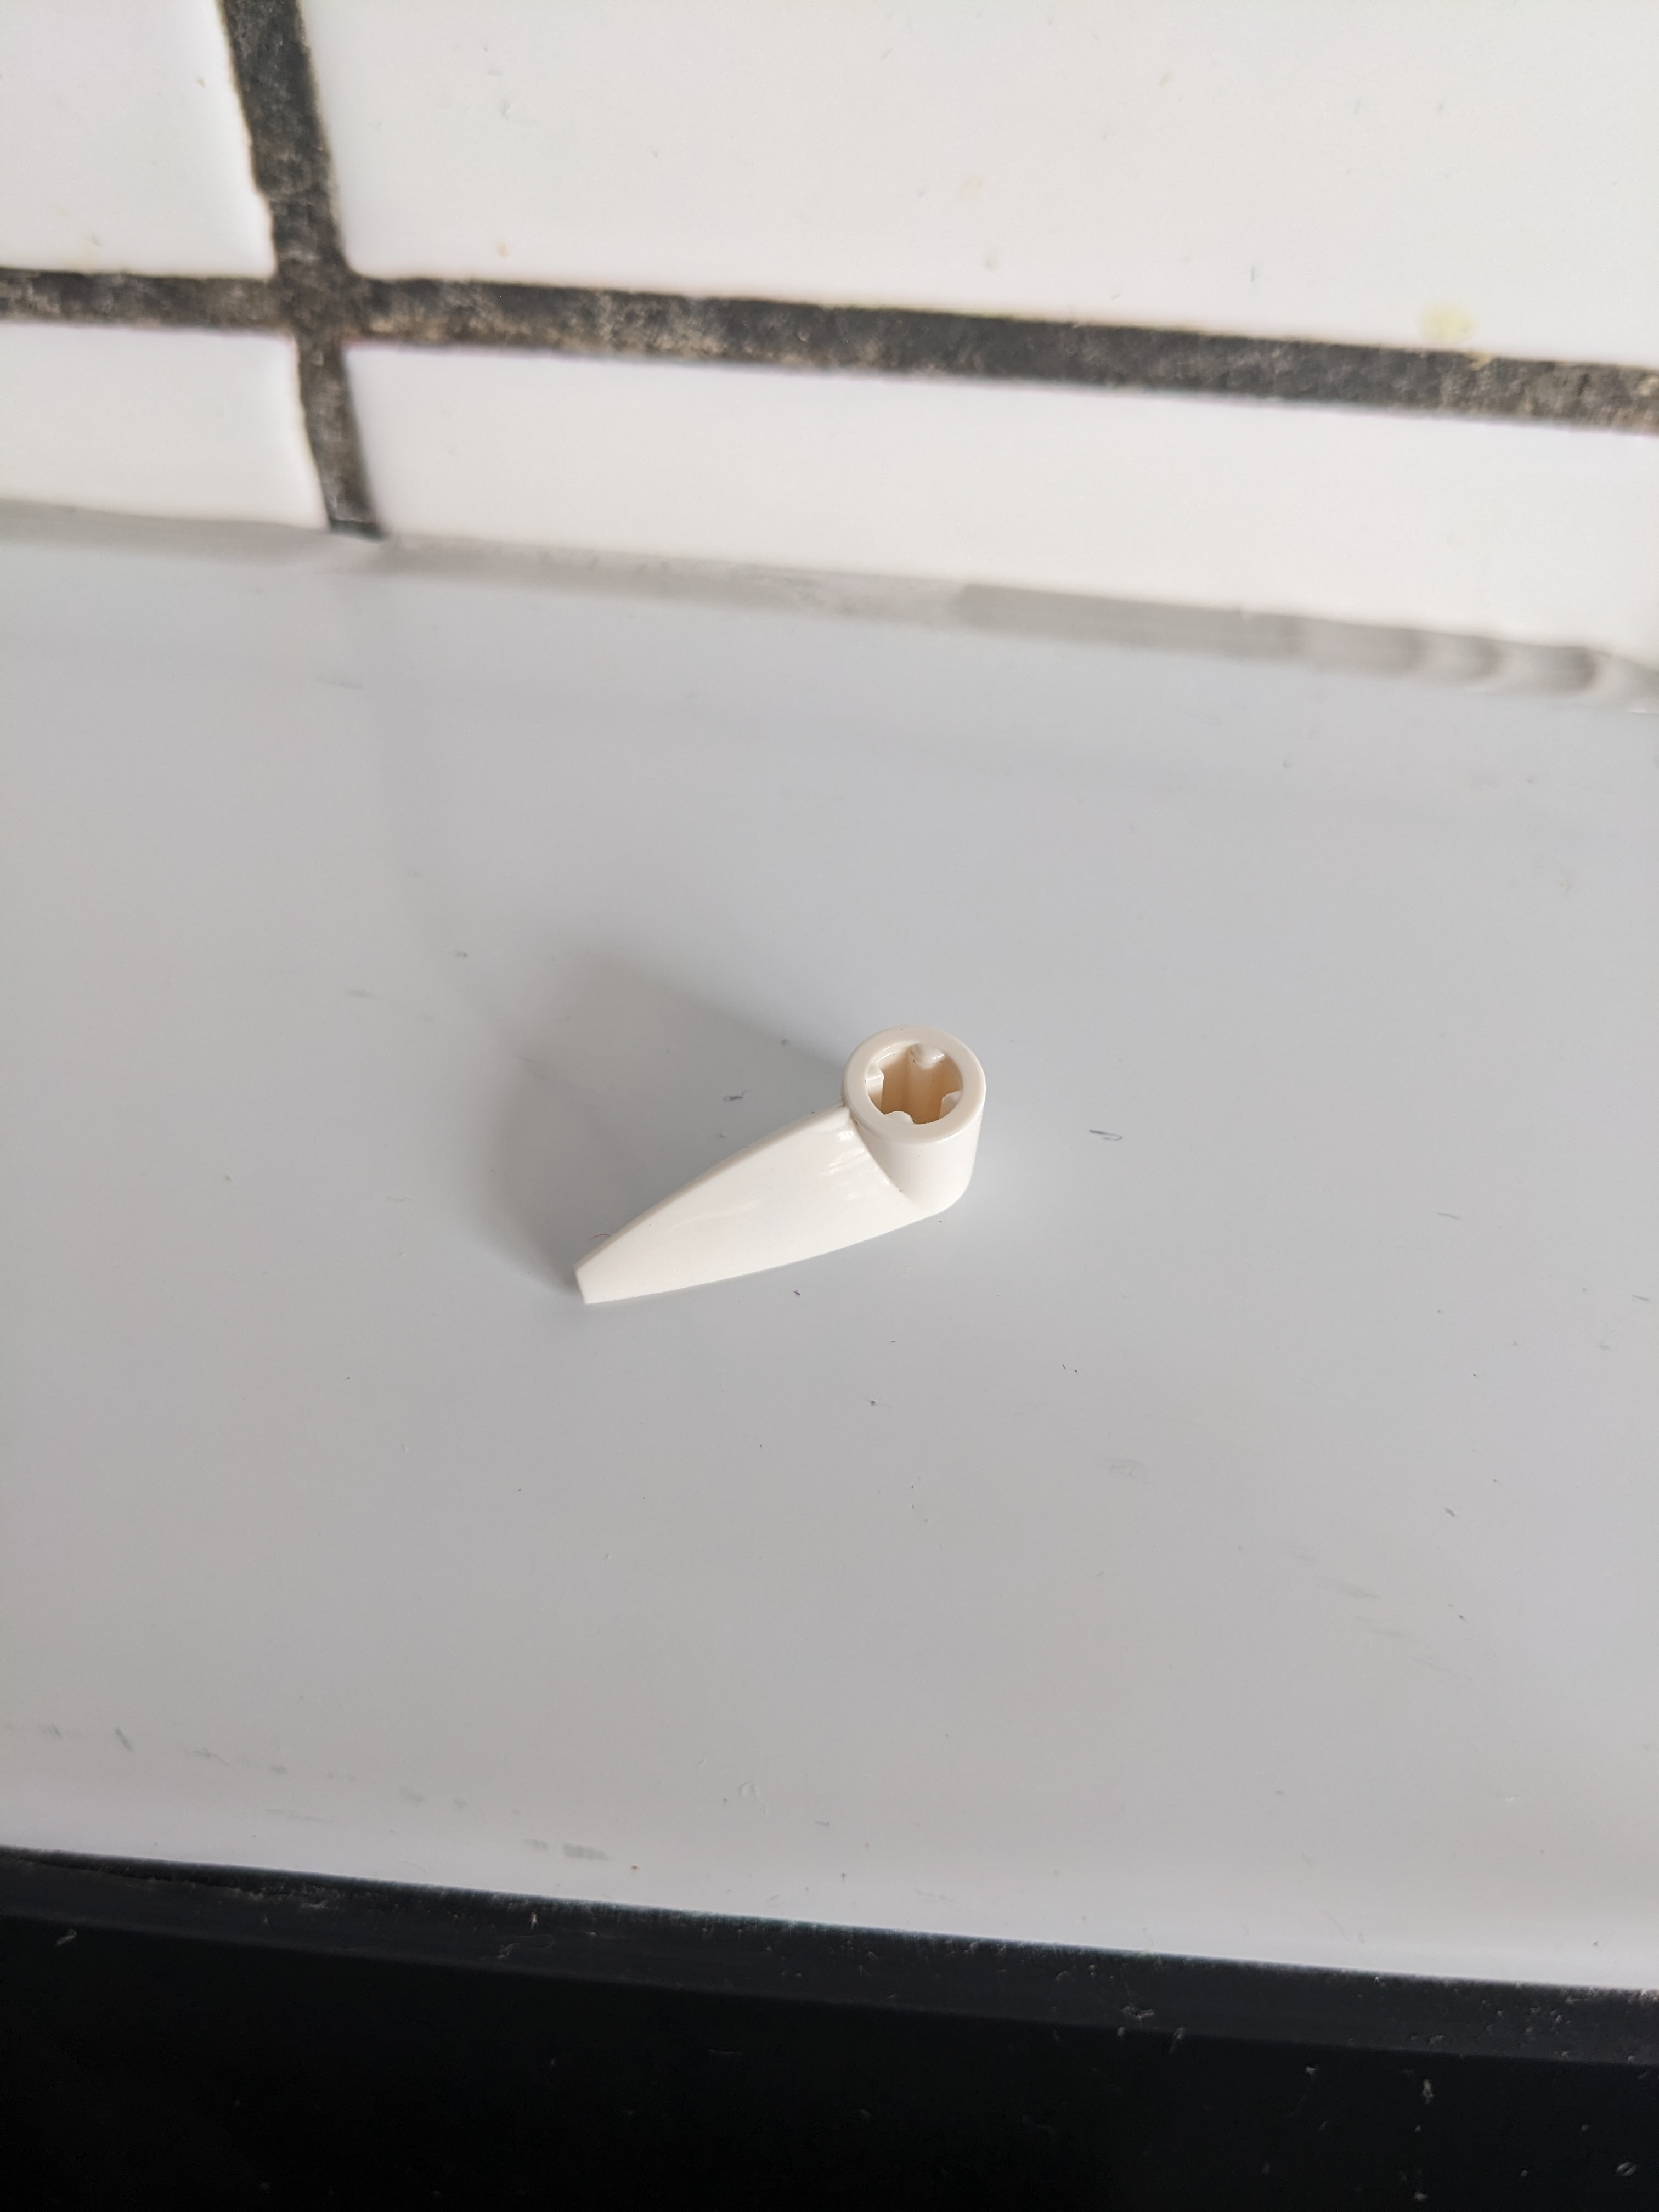Kappe: (552, 1021, 995, 1324)
